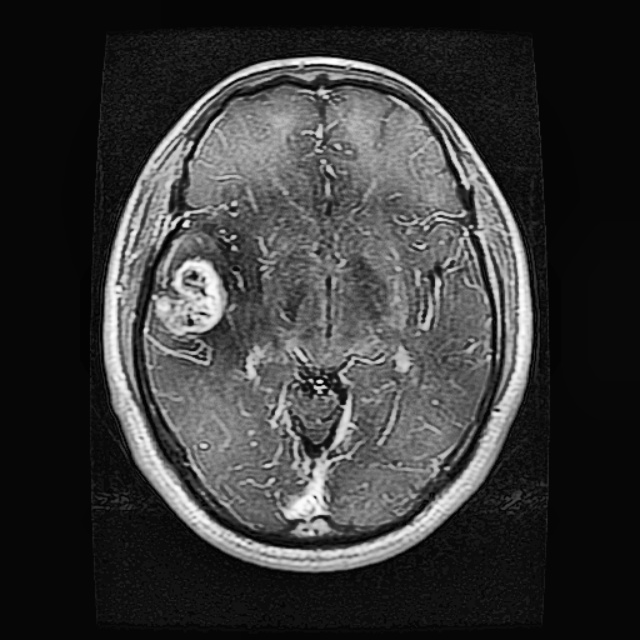Pituitary: (153, 257, 228, 335)
